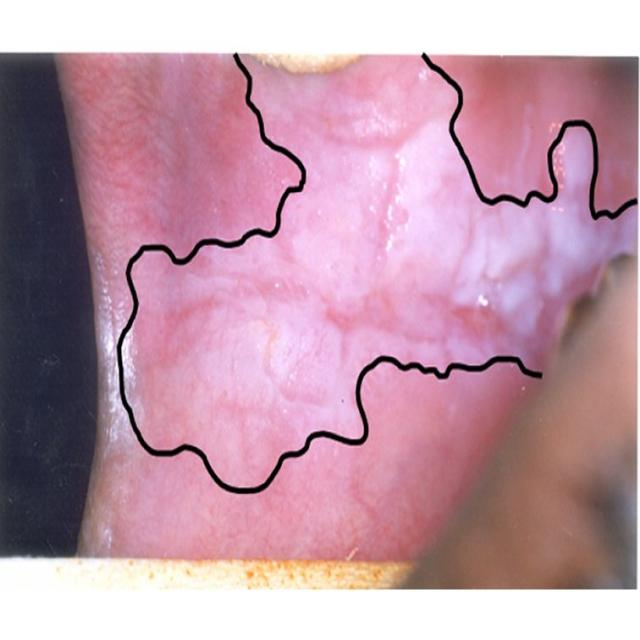leukoplakia-detection: (118, 56, 639, 489)
processing_area: (73, 53, 639, 560)
